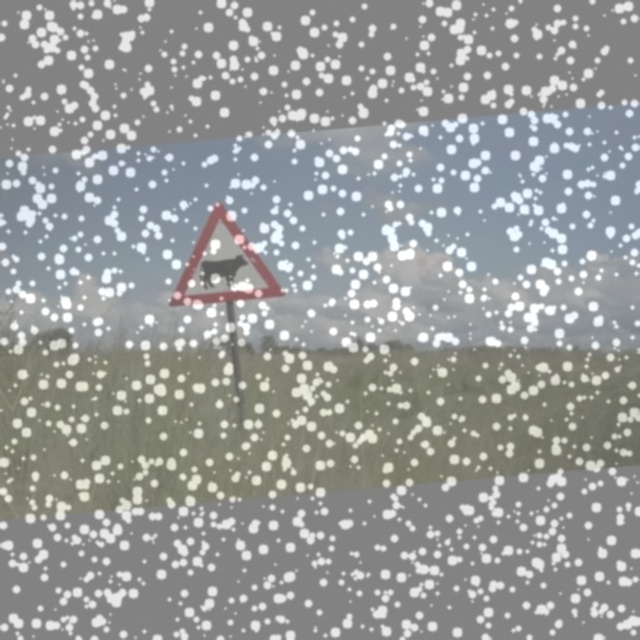Cattle: (166, 199, 283, 310)
